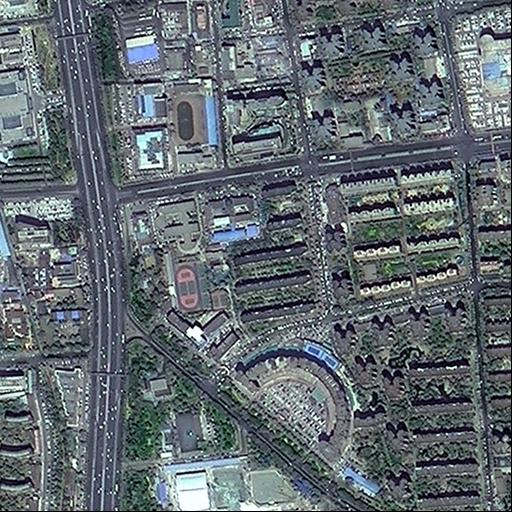school: (154, 194, 209, 312)
